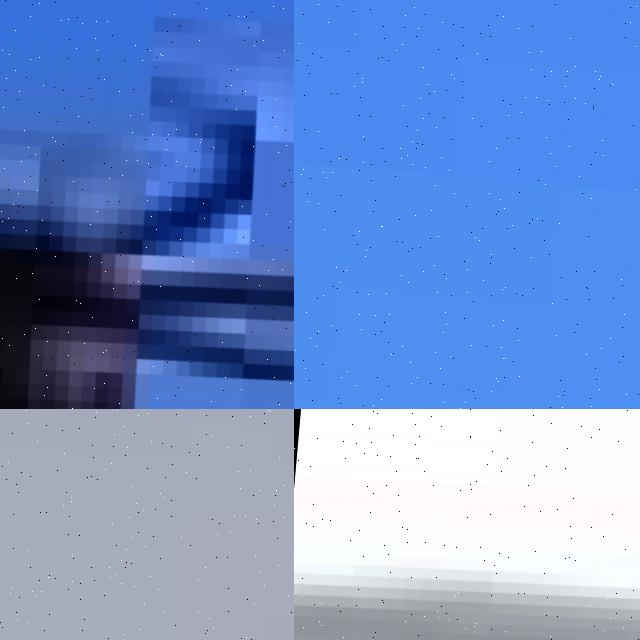drone: (0, 0, 294, 409), (294, 409, 640, 640), (0, 409, 294, 640)
